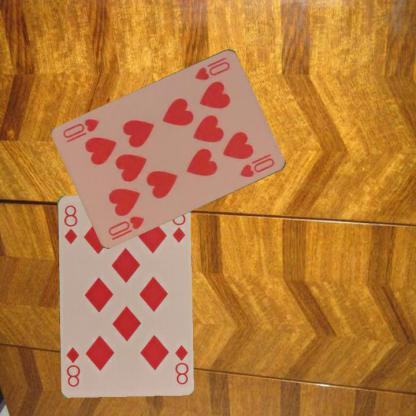10h: (105, 213, 146, 241), (193, 54, 231, 82)
8d: (61, 202, 79, 245), (172, 342, 190, 385)
